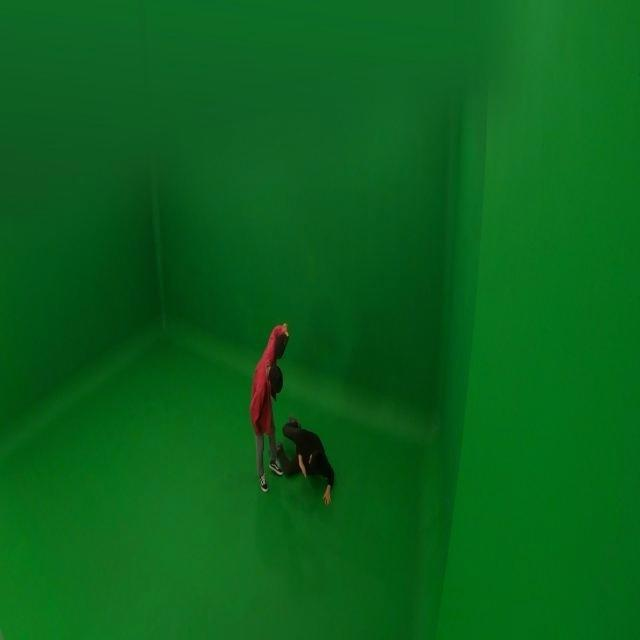fight: (249, 322, 337, 505)
